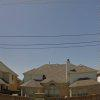Chimney: (61, 52, 74, 79)
